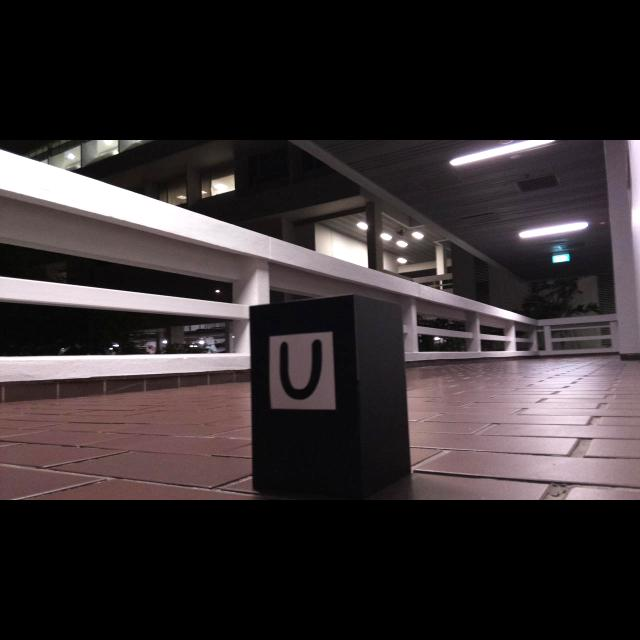U: (279, 339, 322, 400)
